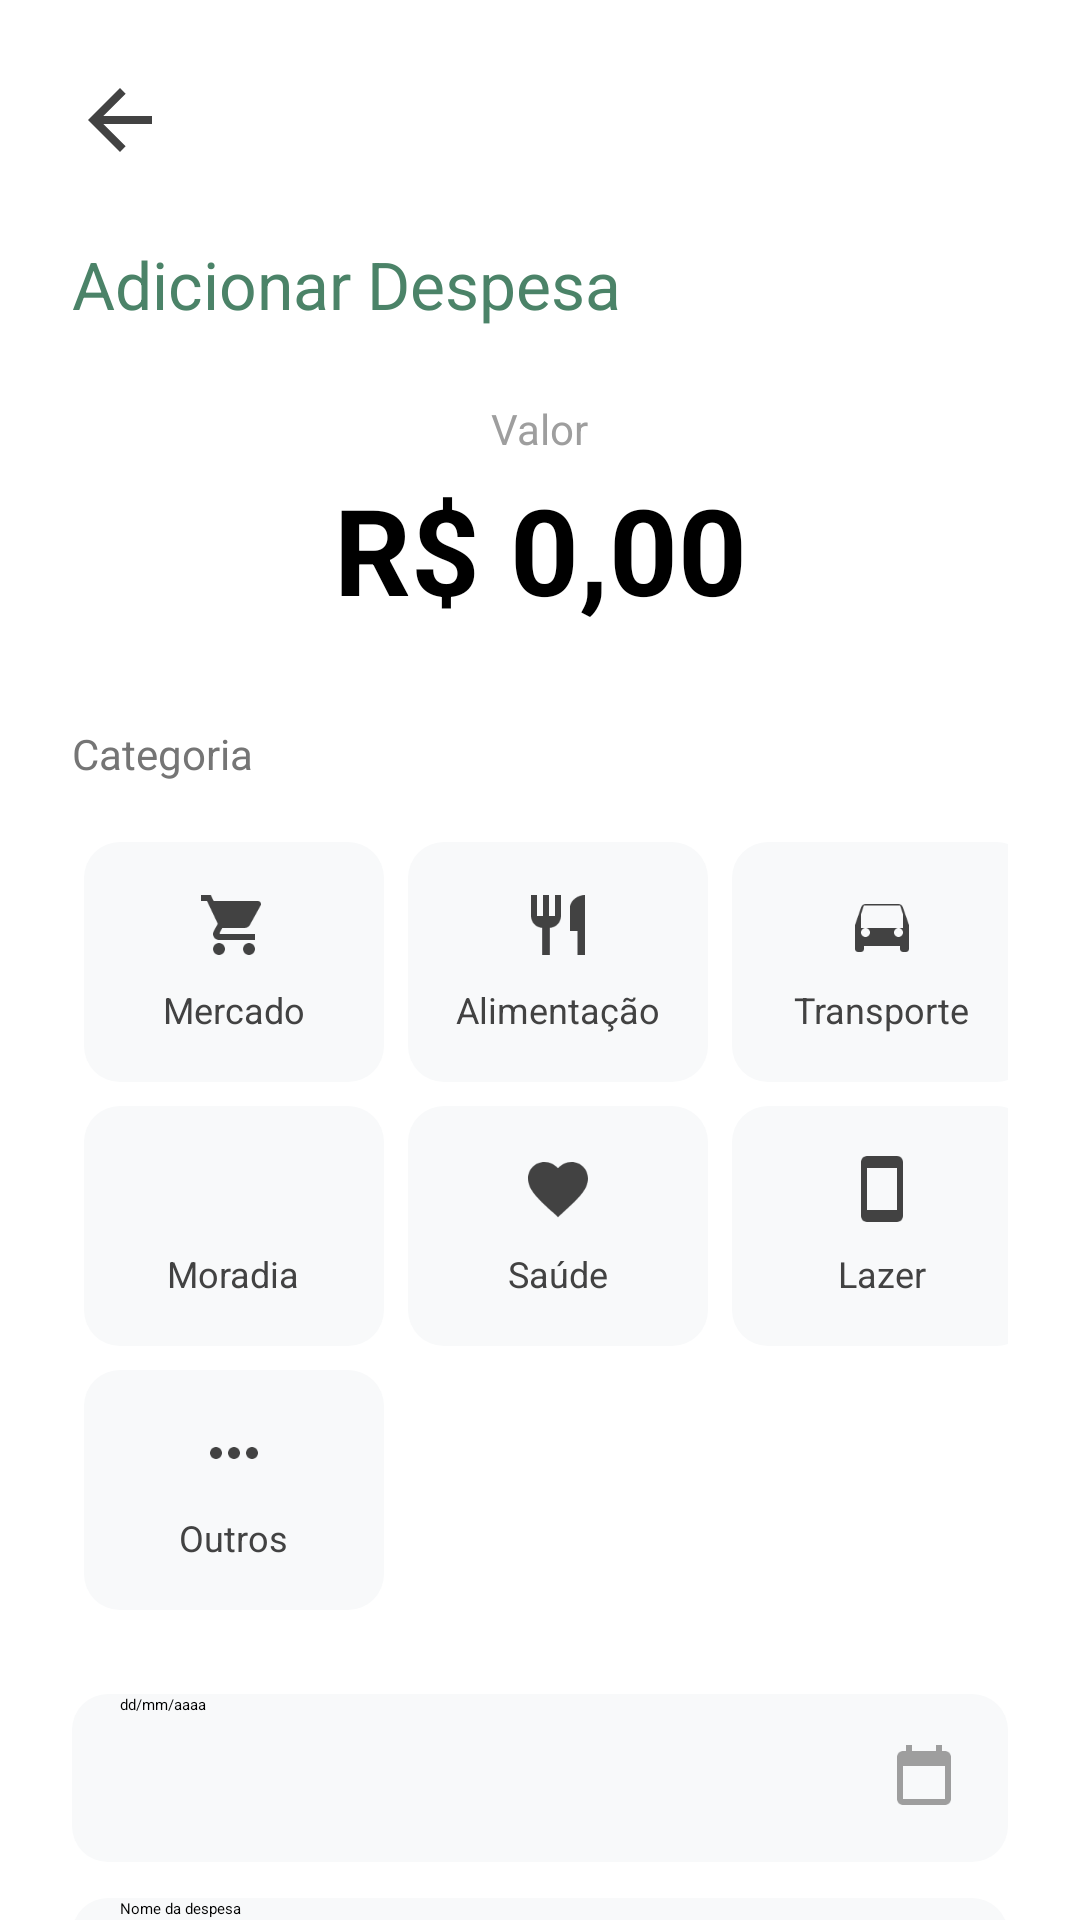

Named icons in this screenshot (1080w x 1920h) and their centers, (x=x, y=y):
arrow back: (x=120, y=120)
directions car: (x=882, y=928)
favorite: (x=558, y=1189)
more horiz: (x=234, y=1453)
restaurant: (x=558, y=925)
shopping cart: (x=231, y=925)
smartphone: (x=882, y=1189)
